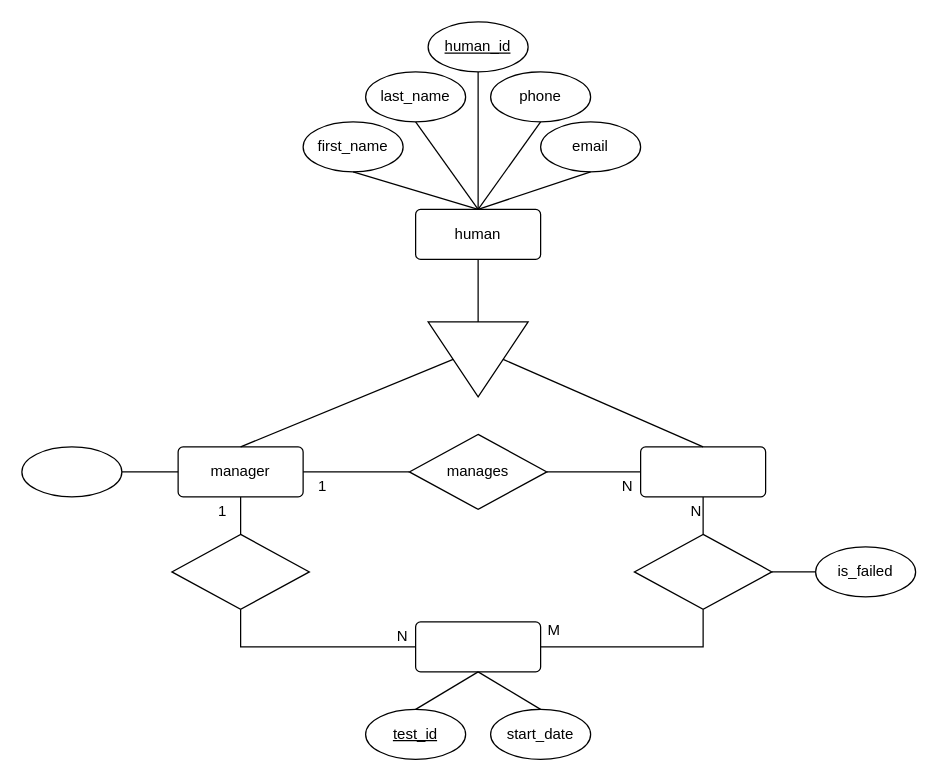
This 938x781 diagram has some shape labels left out. Here are the shapes that lost their labels. From the top down, the box of each, then its label:
(427, 321, 528, 397): ISA
(21, 446, 122, 497): pass
(639, 446, 766, 497): worker
(171, 533, 309, 609): start
(633, 533, 772, 609): worker_test
(414, 621, 541, 672): test
